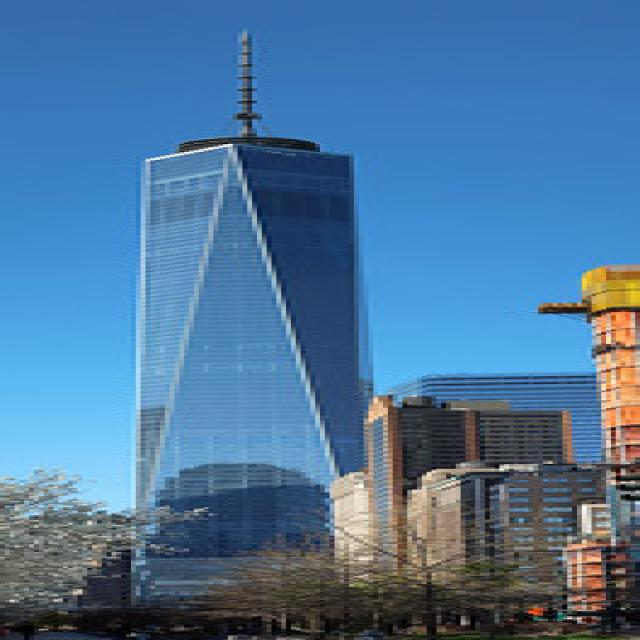Normal_building: (116, 130, 374, 616)
